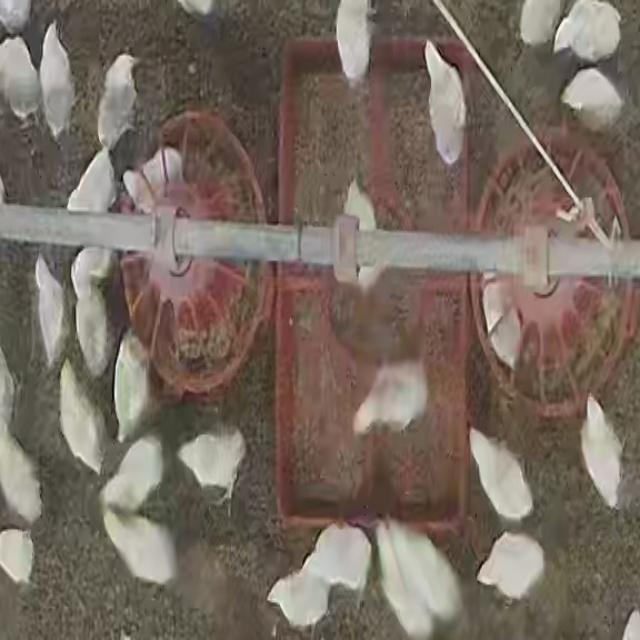chicken: (372, 517, 436, 640), (389, 518, 465, 621), (355, 355, 438, 439), (36, 17, 90, 145), (466, 425, 532, 525), (99, 506, 178, 588), (100, 434, 172, 520), (172, 432, 252, 509), (58, 358, 108, 479), (578, 393, 624, 514), (424, 41, 467, 166), (300, 519, 371, 593), (100, 52, 154, 144), (114, 328, 157, 443), (551, 0, 623, 66), (121, 145, 187, 214), (557, 66, 623, 132), (71, 279, 114, 380), (479, 536, 544, 600), (265, 567, 331, 630), (0, 34, 42, 128), (34, 255, 67, 371), (483, 280, 523, 372), (67, 149, 119, 216), (335, 0, 373, 86), (517, 1, 567, 51), (343, 176, 378, 233)
